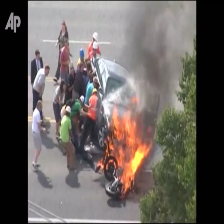fire_h: (103, 96, 153, 195)
fire_l: (106, 159, 116, 171), (96, 157, 103, 172)
